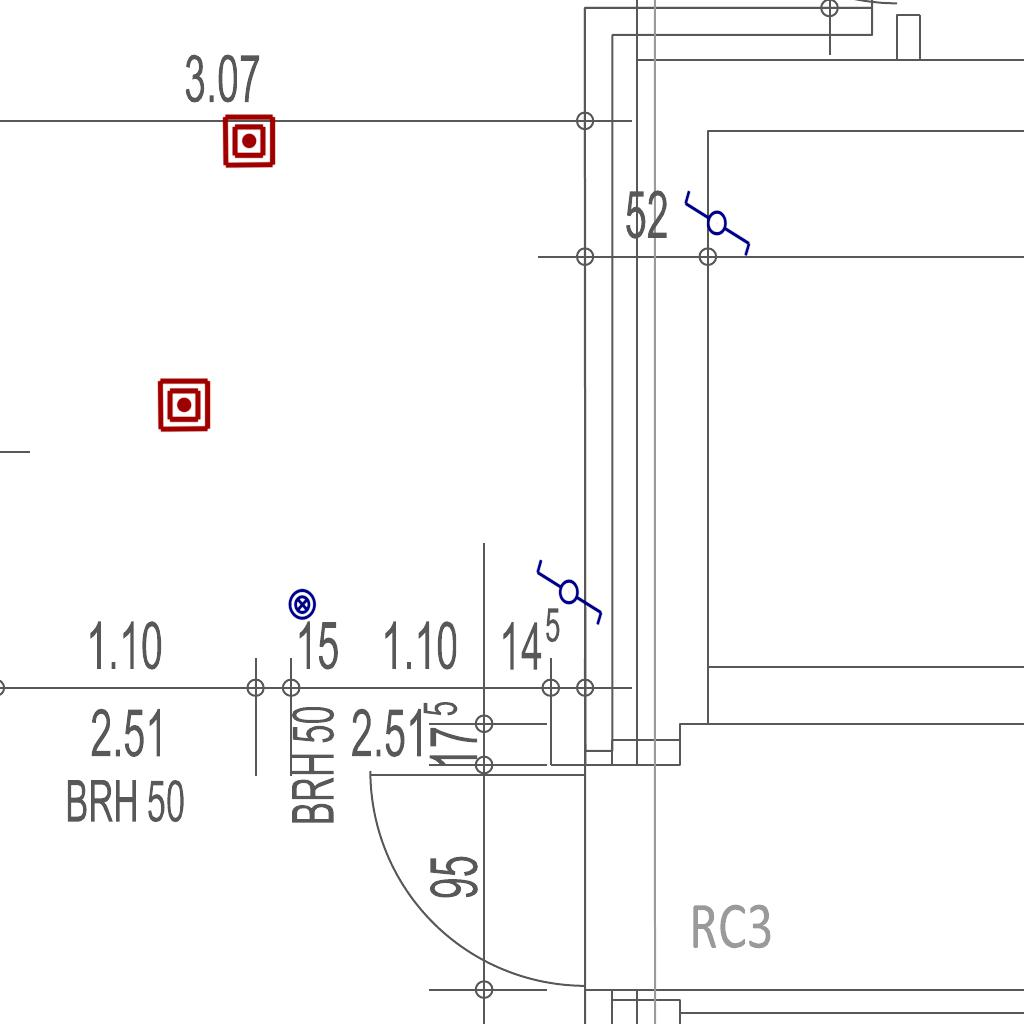NAM-Nichtautomatischer_Melder: (156, 377, 212, 433), (221, 113, 277, 169)
Taster_beleuchtet: (286, 588, 319, 621)
Wechselschalter: (682, 180, 754, 258), (534, 549, 606, 627)
